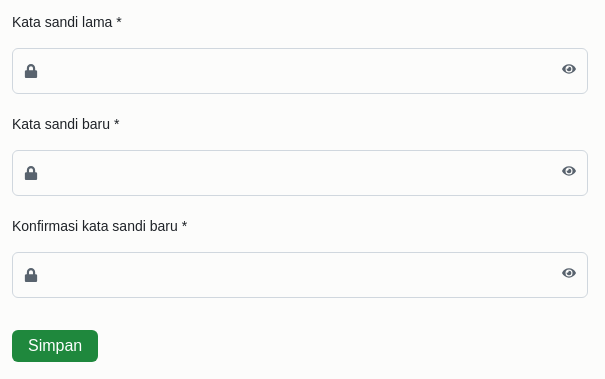
PasswordForm › toggles password visibility without changing its value
Type "old-password" into the password field named "Kata sandi lama" at x=300, y=71, box [12, 48, 588, 94]
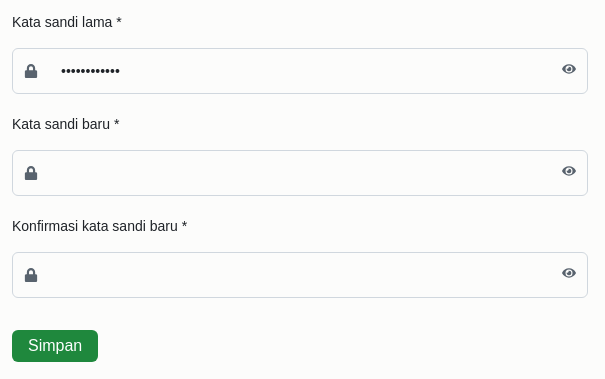
Click the button named "Lihat kata sandi lama" at x=569, y=69, box [562, 62, 576, 76]
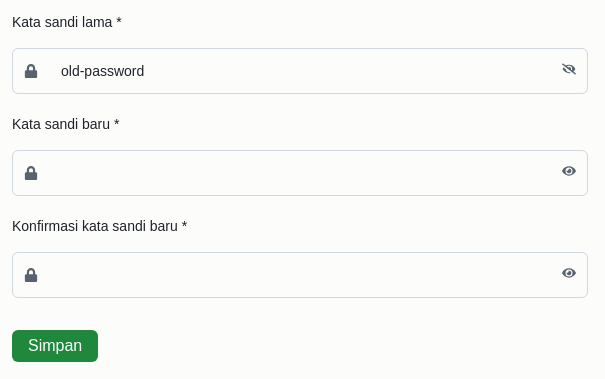
Now the field named "Kata sandi lama" shows its text, box [12, 48, 588, 94]
